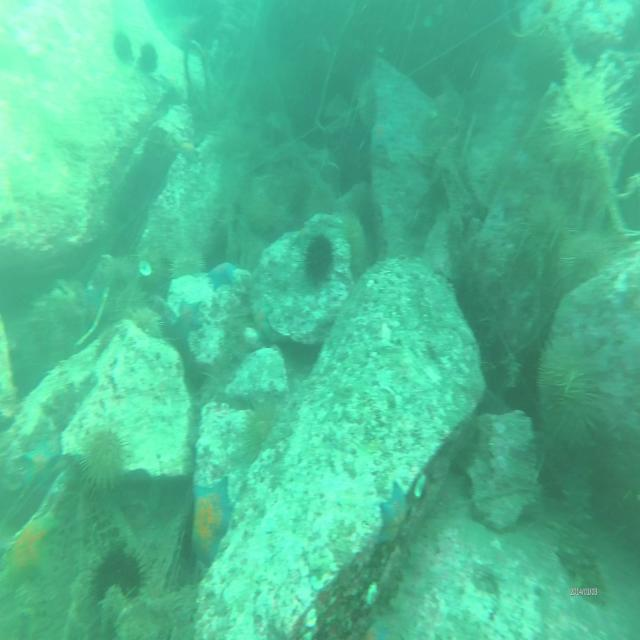echinus: (90, 534, 148, 600), (81, 426, 134, 498), (297, 227, 341, 293), (240, 395, 280, 452), (131, 301, 167, 346), (171, 245, 207, 281), (111, 24, 134, 70), (136, 39, 160, 79)
starfish: (190, 472, 233, 568), (15, 427, 59, 500), (7, 514, 57, 576), (378, 479, 410, 549)
